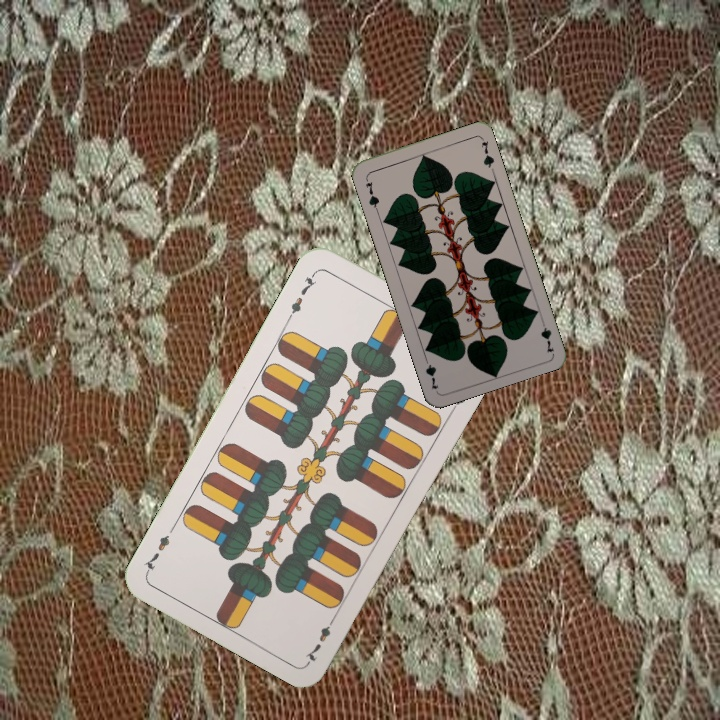E7: (301, 611, 339, 665), (283, 268, 320, 322)
G7: (537, 314, 557, 355), (361, 178, 382, 213)
